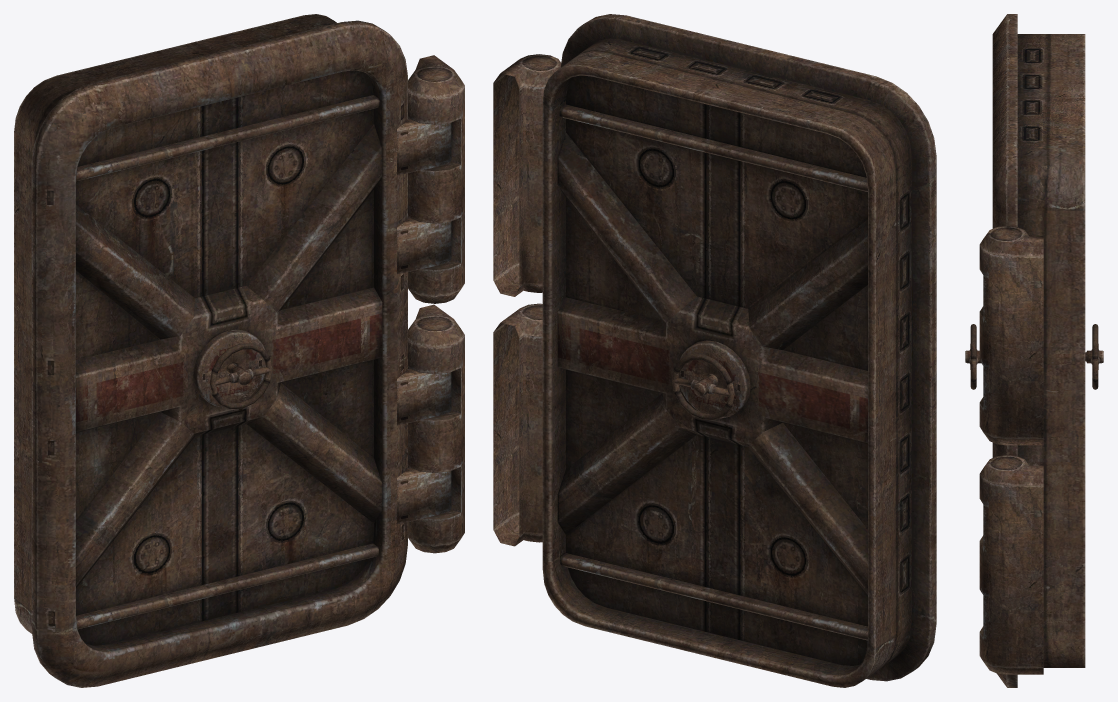
The model's file is swingdoor_flush_control.dae.
3 views of the same model, side by side, from view 1: azimuth 30°, elevation 25°; view 2: azimuth 150°, elevation 25°; view 3: azimuth 270°, elevation 25° (orthographic). The views are drawn at different scales.
Parts seen in each view (by area): view 1: polySurface140, polySurface141, polySurface142; view 2: polySurface140, polySurface141, polySurface142; view 3: polySurface140, polySurface141, polySurface142.
Boxes of the visible parts, left/top/right/bottom form: polySurface140: left=14, top=14, right=451, bottom=687; polySurface141: left=408, top=55, right=464, bottom=553; polySurface142: left=209, top=343, right=272, bottom=409; polySurface140: left=542, top=14, right=936, bottom=687; polySurface141: left=493, top=54, right=561, bottom=546; polySurface142: left=672, top=354, right=734, bottom=419; polySurface140: left=992, top=14, right=1085, bottom=687; polySurface141: left=979, top=226, right=1043, bottom=674; polySurface142: left=965, top=324, right=1103, bottom=389.
Bounding box in the file's own units: 2.24 × 3.03 × 0.6878.
